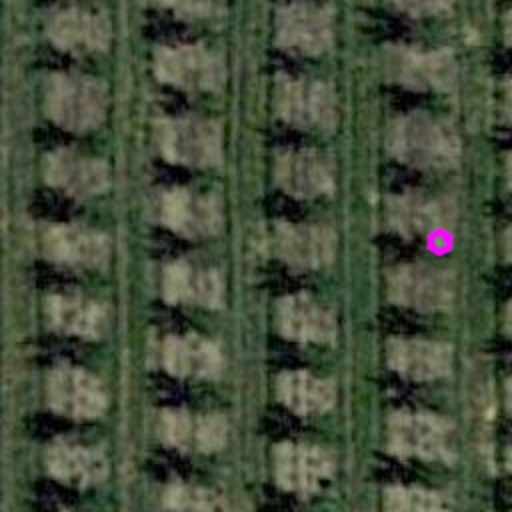hexagon: (420, 222, 460, 262)
